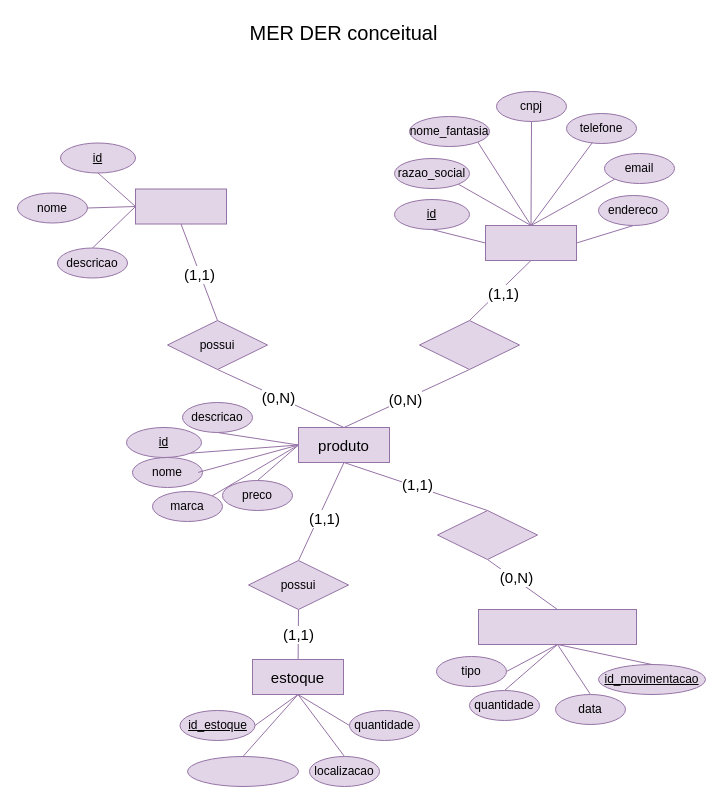
The diagram is 723 pixels wide and 804 high, and some of its shapes have lost their labels. Here are the shapes that lost their labels. From the top down, the centre of each, then its label:
point 180,206: categoria
point 530,242: fornecedor
point 469,345: fornece
point 487,535: registra
point 557,626: movientacao_estoque
point 242,771: quantidade_minima
